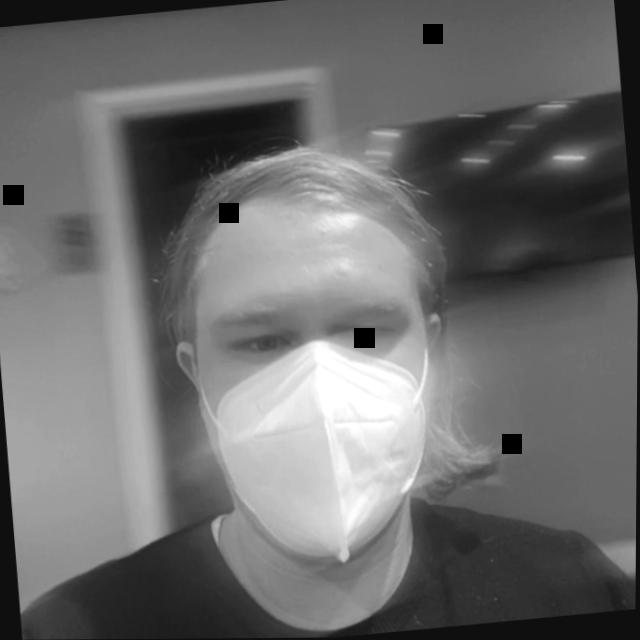Mask: (117, 118, 498, 597)
